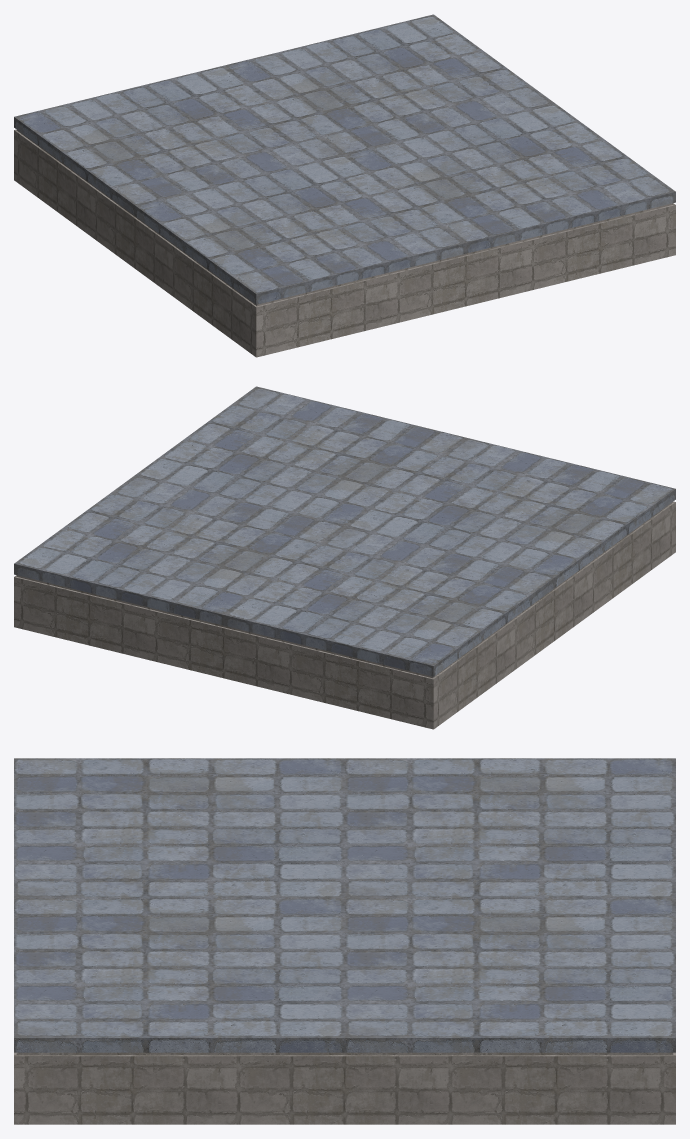
File: SewerSet3_25MV1.fbx
3 views of the same model, one above another, from view 1: azimuth 30°, elevation 25°; view 2: azimuth 150°, elevation 25°; view 3: azimuth 270°, elevation 25° (orthographic). The views are drawn at different scales.
Parts seen in each view (by area): view 1: Box093; view 2: Box093; view 3: Box093.
Boxes of the visible parts, x1,y1,x2,y2 form: Box093: (14, 14, 675, 357); Box093: (14, 386, 675, 729); Box093: (14, 758, 675, 1124).
Bounding box in the file's own units: 2500 × 361 × 2500.
